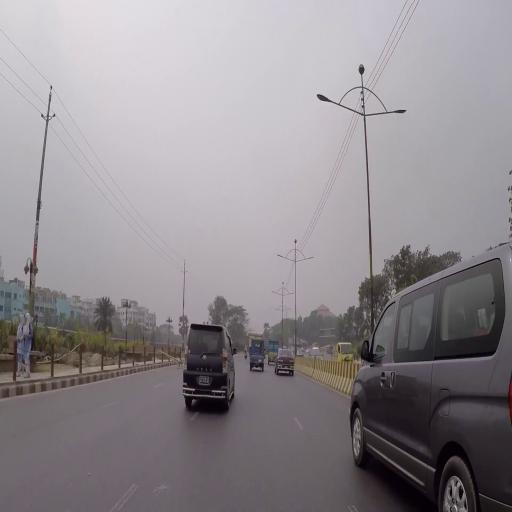car: (275, 348, 295, 376)
minivan: (182, 321, 238, 411)
motorbike: (245, 345, 248, 360)
pickup: (333, 341, 355, 364), (250, 339, 265, 371), (268, 339, 280, 366)
van: (346, 242, 510, 509)
